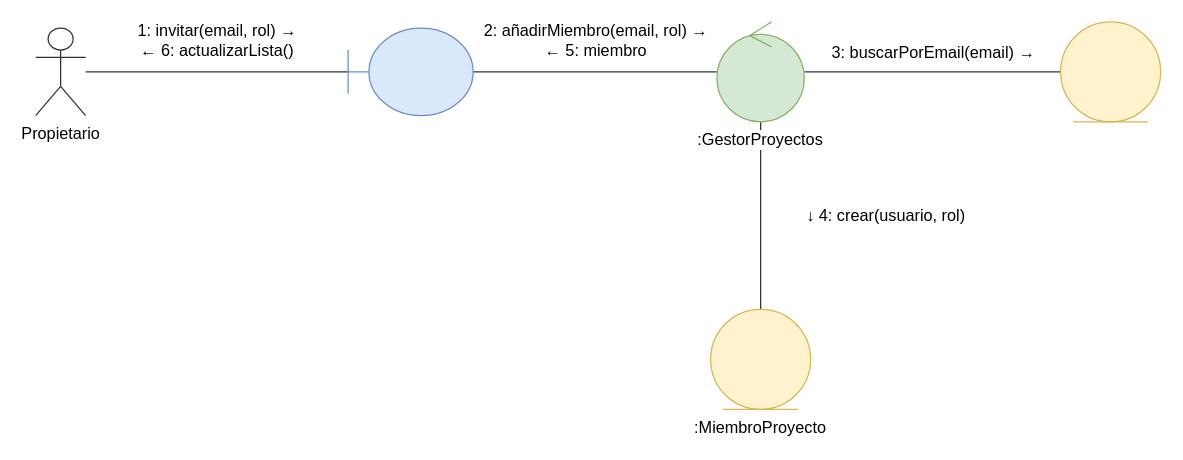
The diagram is 1183 pixels wide and 460 high, and some of its shapes have lost their labels. The shapes that lost their labels are listed below. From the top down, each one's centre as x and y in pixels, then its label:
At [410,71]: ":PanelMiembros".
At [1110,71]: ":Usuario".
